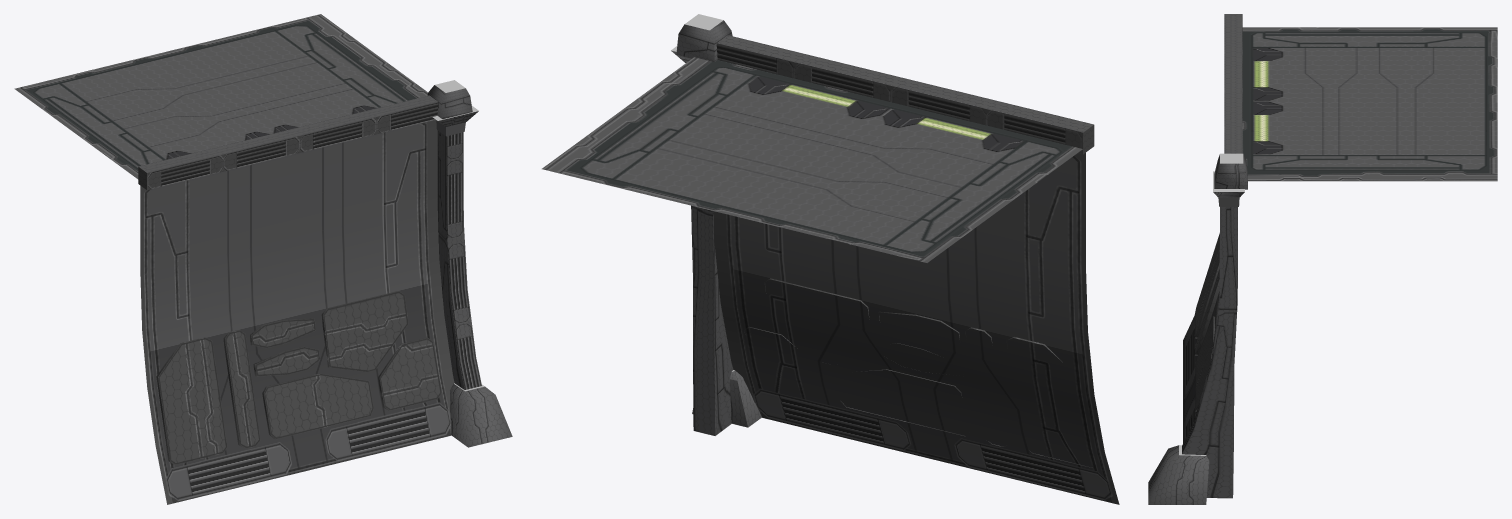
File: Wall 01.fbx
3 views of the same model, side by side, from view 1: azimuth 30°, elevation 25°; view 2: azimuth 150°, elevation 25°; view 3: azimuth 270°, elevation 25° (orthographic). The views are drawn at different scales.
Visible parts, largest first — view 1: Wall 01; view 2: Wall 01; view 3: Wall 01.
Boxes of the visible parts, box(x1,y1,x2,y2) form: Wall 01: box(14, 14, 512, 504); Wall 01: box(542, 14, 1119, 504); Wall 01: box(1148, 14, 1497, 504).
Bounding box in the file's own units: 428 × 407 × 384.
